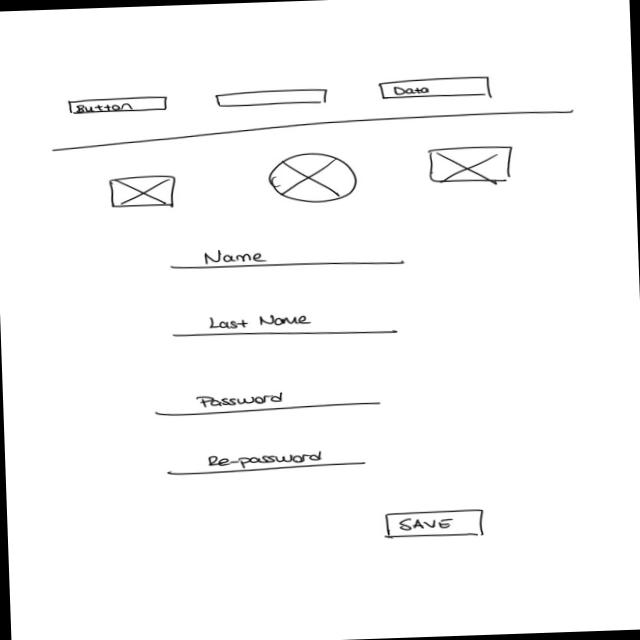button: (385, 508, 486, 541), (377, 76, 493, 101), (67, 95, 170, 116)
image: (267, 151, 360, 206), (428, 144, 517, 185), (109, 174, 179, 210)
input: (170, 310, 400, 344), (153, 387, 384, 419), (170, 243, 406, 274), (164, 448, 368, 479), (213, 89, 330, 110)
